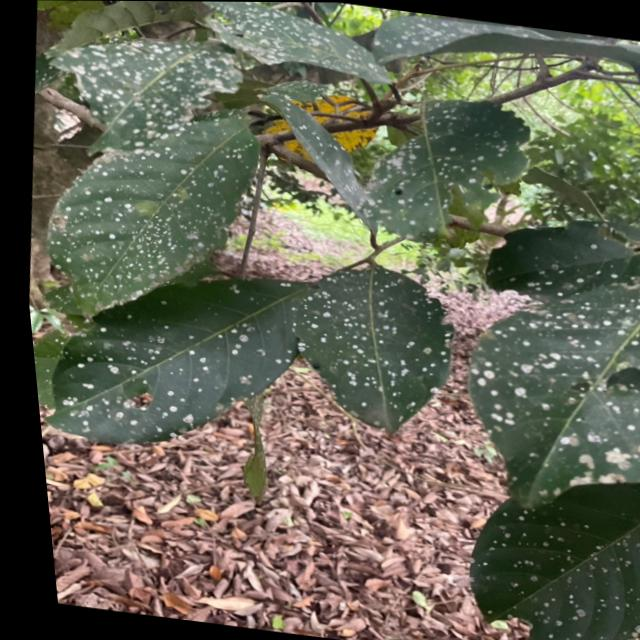Algal Leaf Spot: (1, 16, 326, 460), (426, 234, 640, 640), (167, 1, 557, 219), (292, 243, 454, 427)
